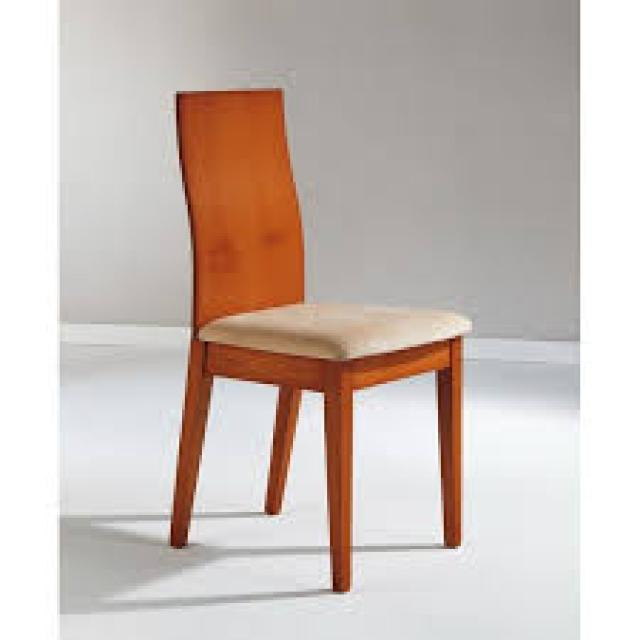bottle: (164, 85, 473, 597)
